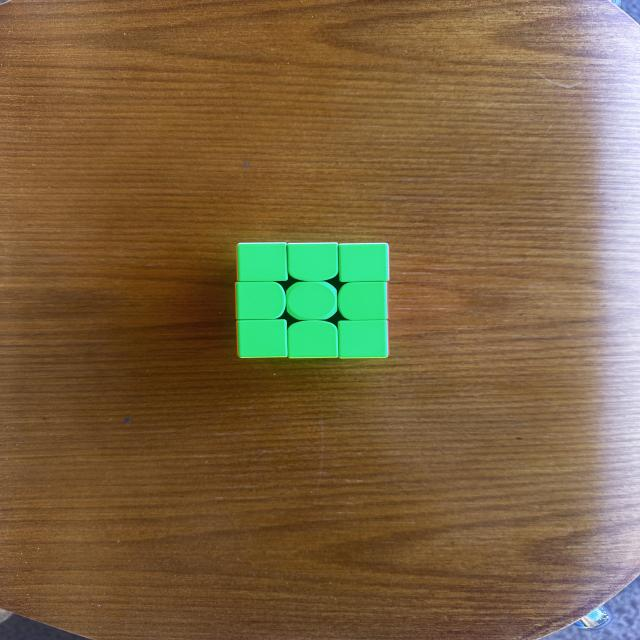sticker: (335, 242, 391, 286), (284, 242, 340, 284), (284, 280, 340, 322), (235, 242, 290, 284), (234, 280, 289, 322), (335, 280, 389, 322), (337, 320, 389, 359), (287, 320, 339, 359), (237, 320, 290, 358)
